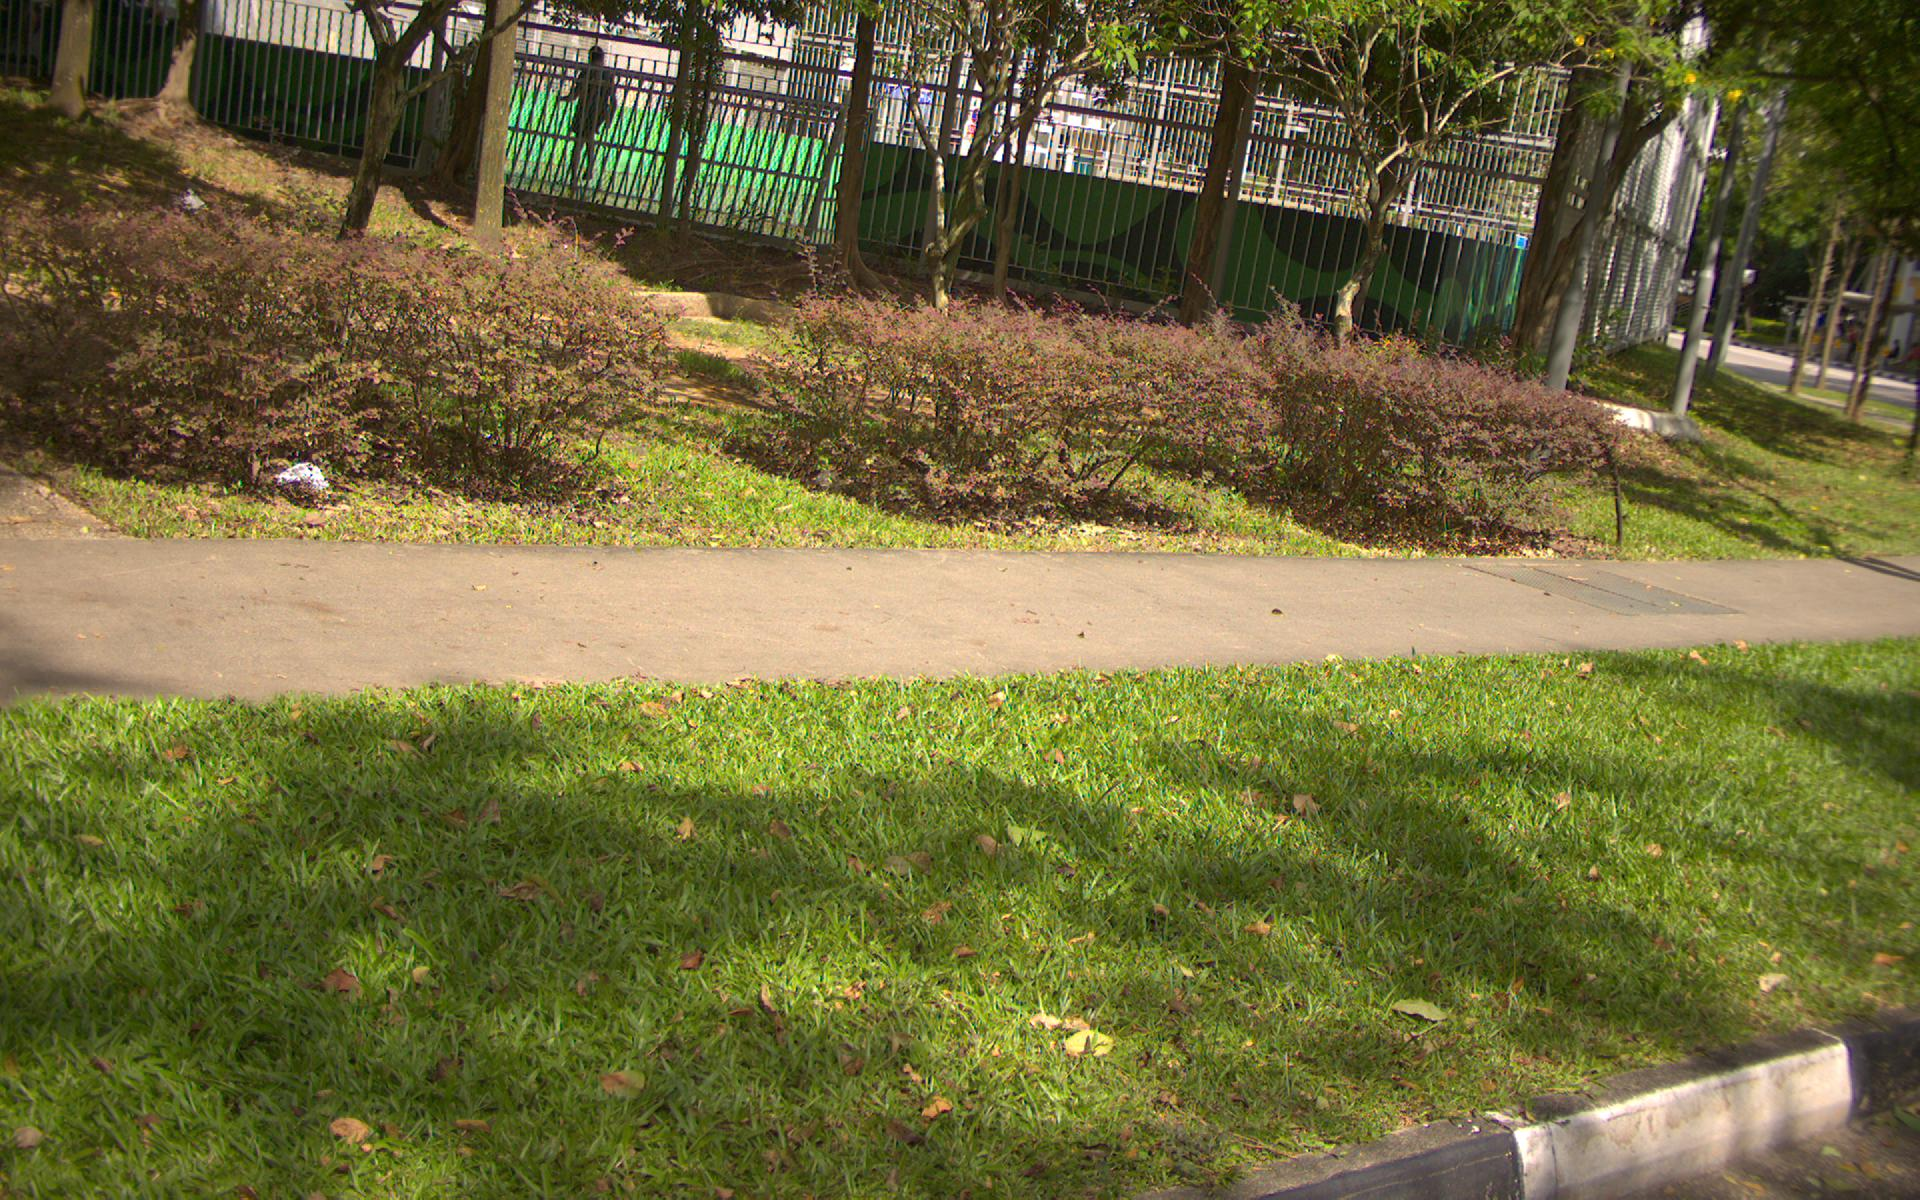pathway_low: (21, 553, 1920, 647)
road_turf_low: (28, 711, 1920, 977), (65, 400, 1920, 549)
